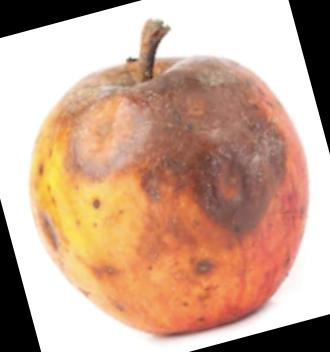Apple: (33, 56, 301, 338)
